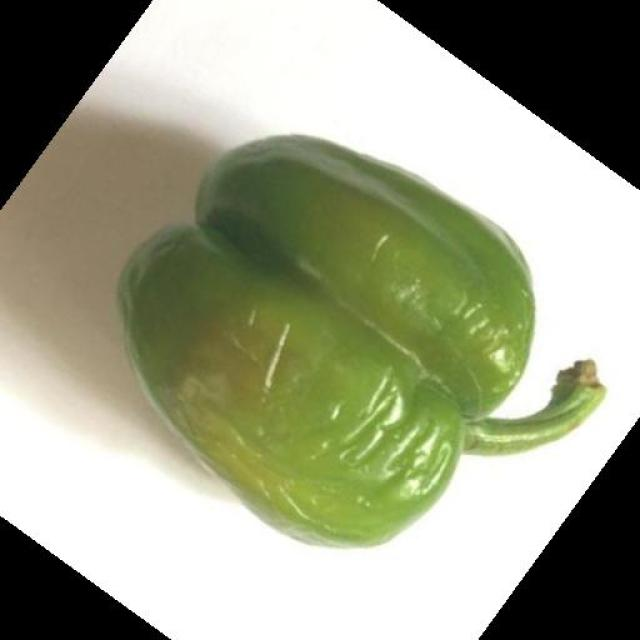Stale_Capsicum: (118, 135, 536, 534)
